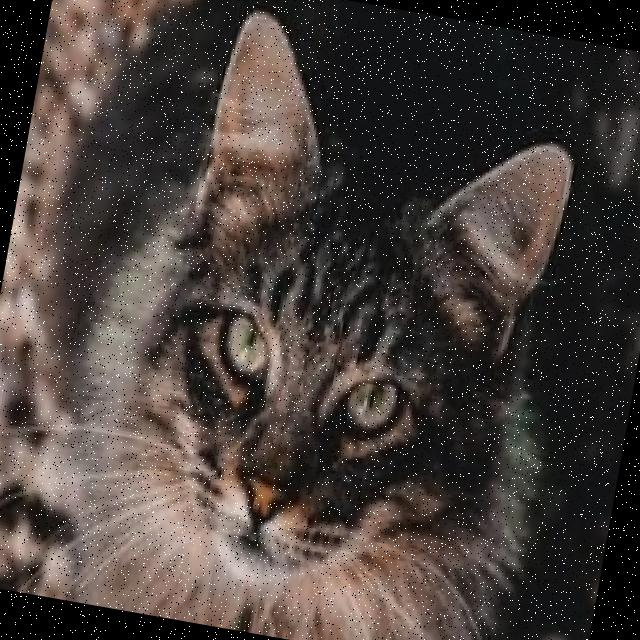Angry: (98, 244, 474, 622)
